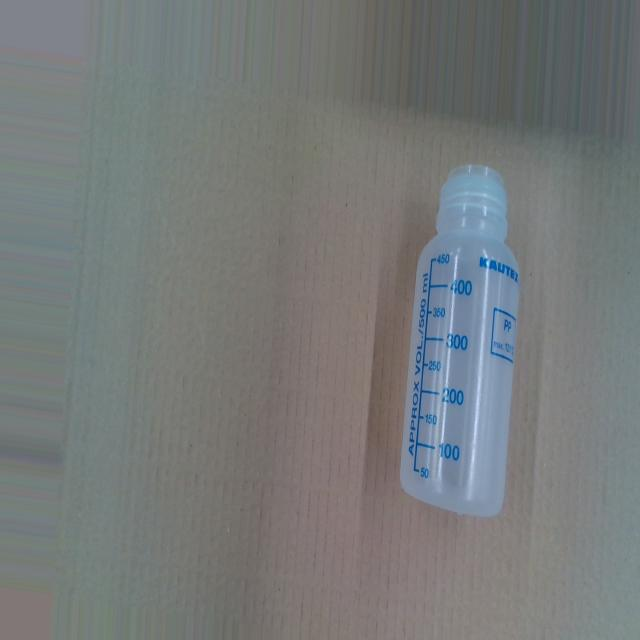bottle: (401, 164, 522, 516)
